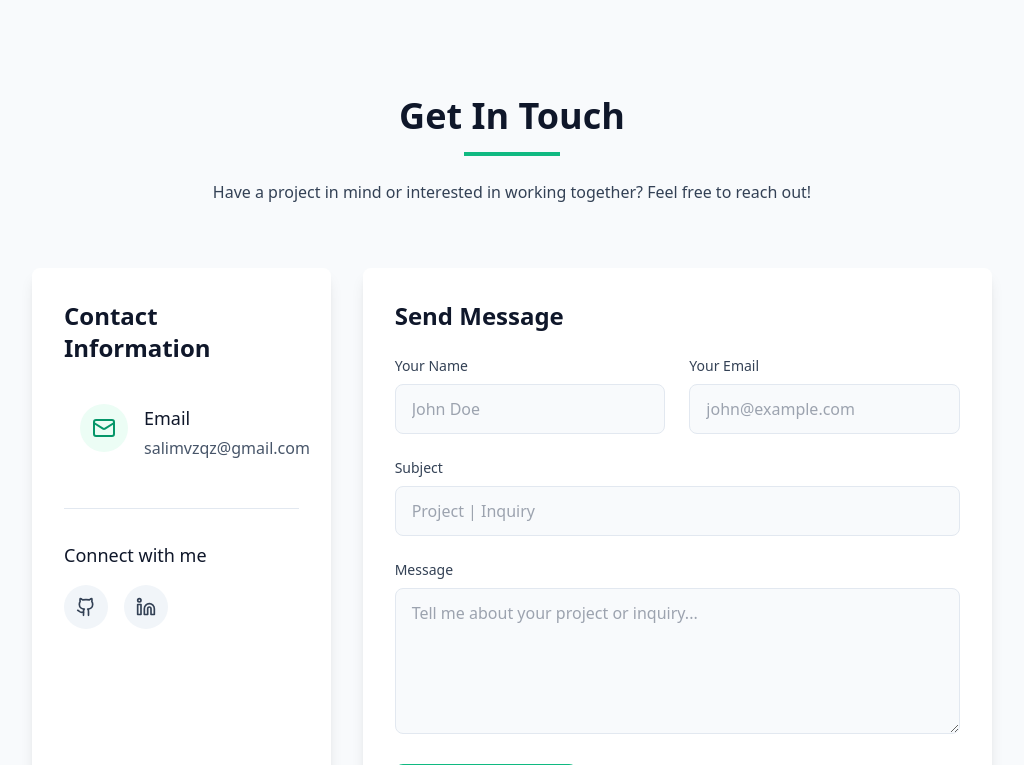
Test: Contact › muestra mensaje de error si falla el envío
Step 1. Type "Test User" into the field with placeholder "John Doe" → (530, 409), box x1=395 y1=384 x2=665 y2=434
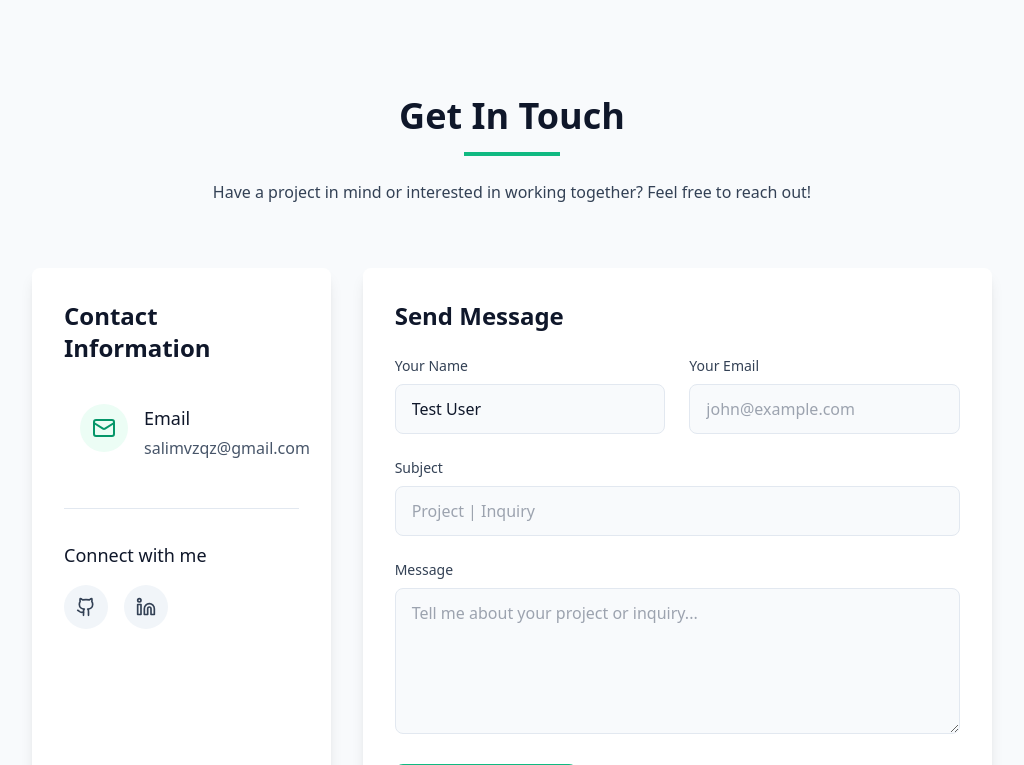
Step 2. Type "test@example.com" into the field with placeholder "john@example.com" → (825, 409), box x1=689 y1=384 x2=960 y2=434
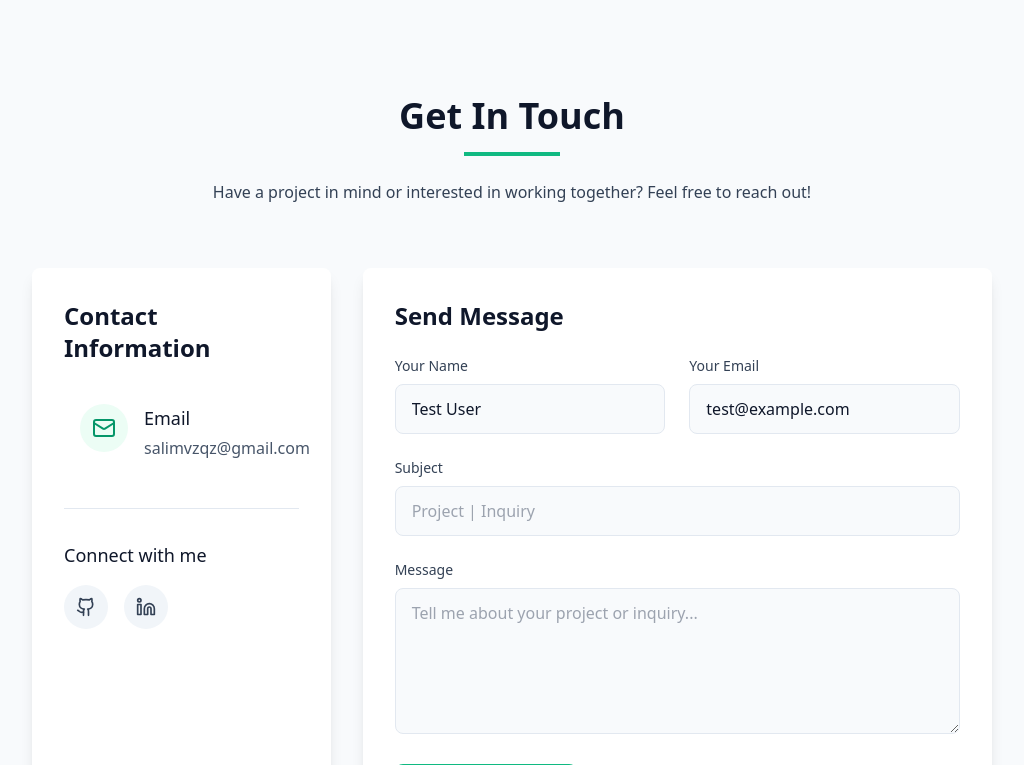
Step 3. Type "Test Subject" into the field with placeholder "Project | Inquiry" → (677, 511), box x1=395 y1=486 x2=960 y2=536
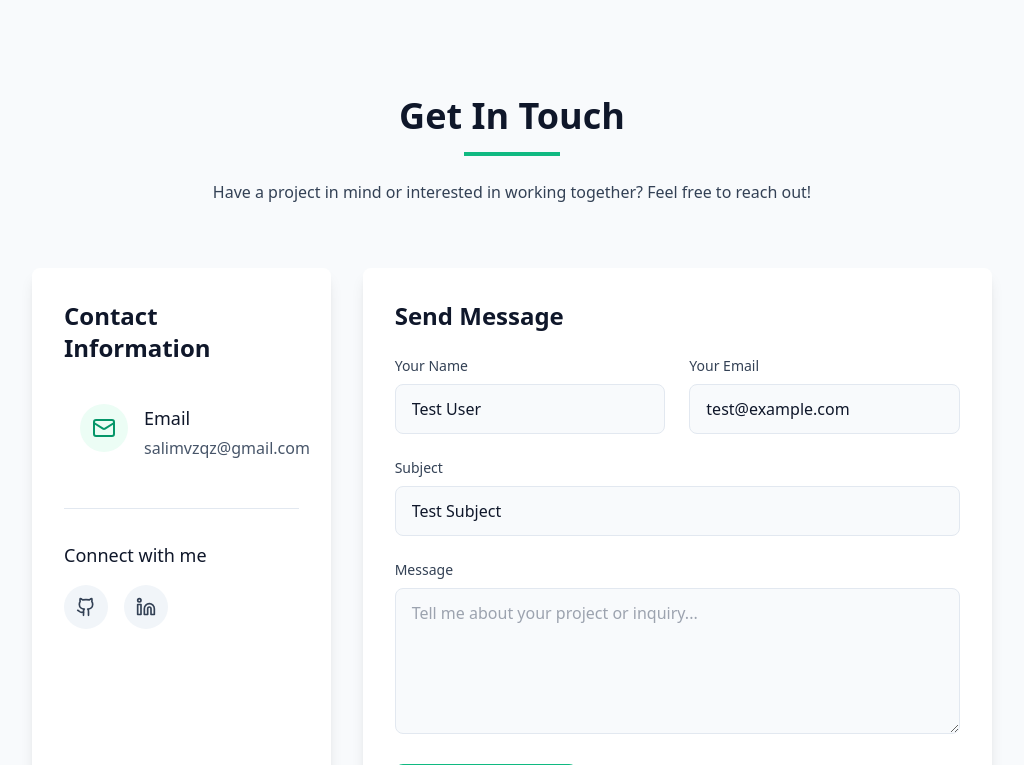
Step 4. Type "Test message" into the text box with placeholder "Tell me about your project or inquiry..." → (677, 661), box x1=395 y1=588 x2=960 y2=734
(page scrolled)
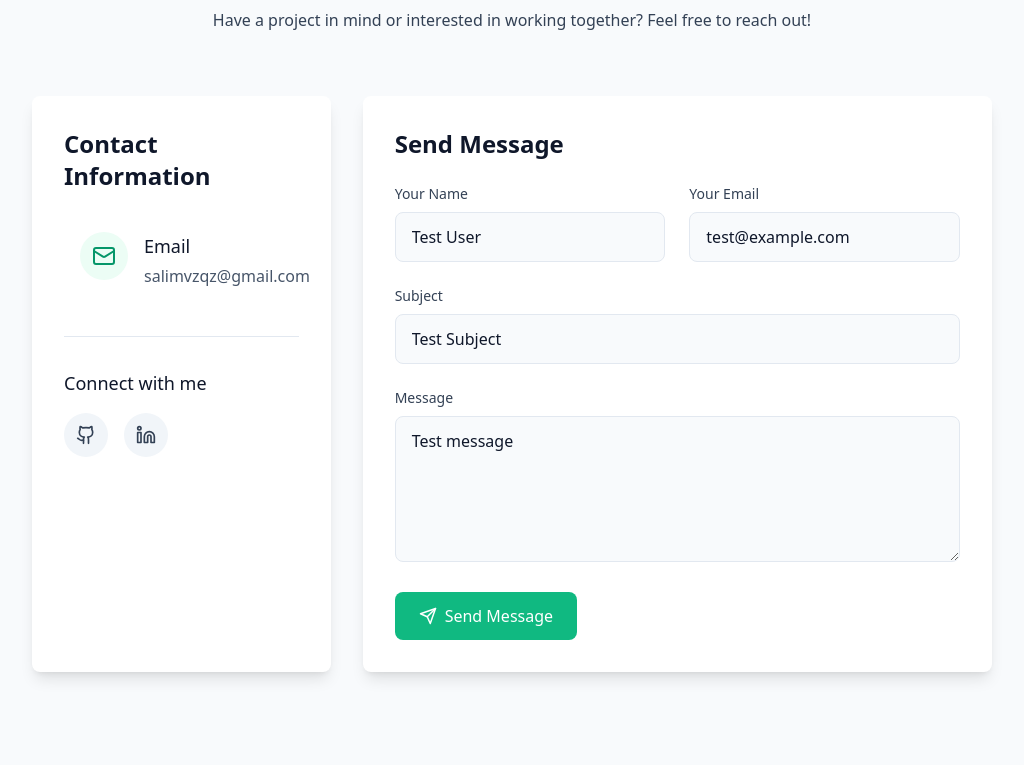
Step 5. Click the button "Send Message" → (486, 616), box x1=395 y1=592 x2=577 y2=640
(page scrolled)
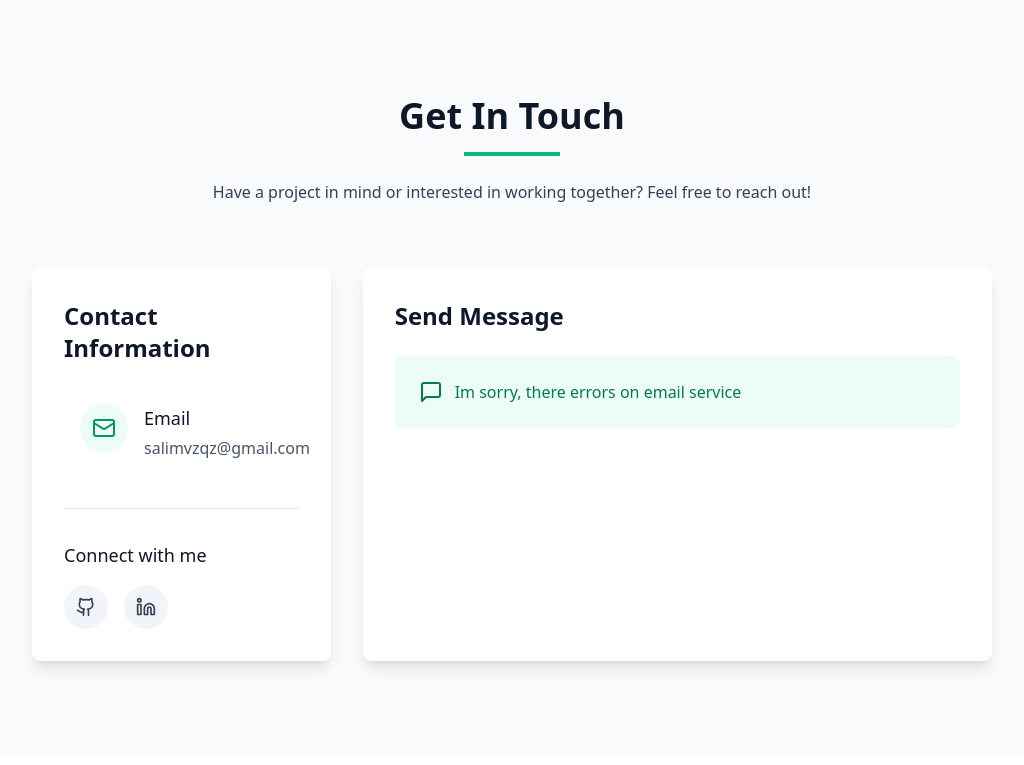
expect the text "Im sorry, there errors on email service" is shown: met, box x1=455 y1=380 x2=741 y2=404
